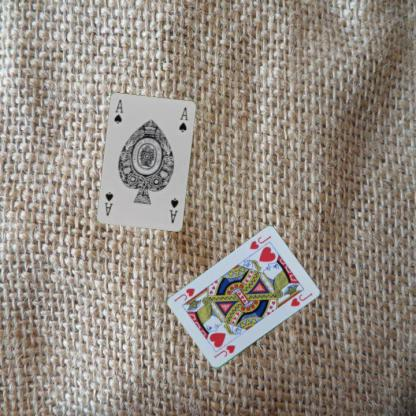As: (168, 196, 180, 224), (112, 97, 124, 125)
Jh: (247, 233, 272, 251), (212, 343, 236, 360)
